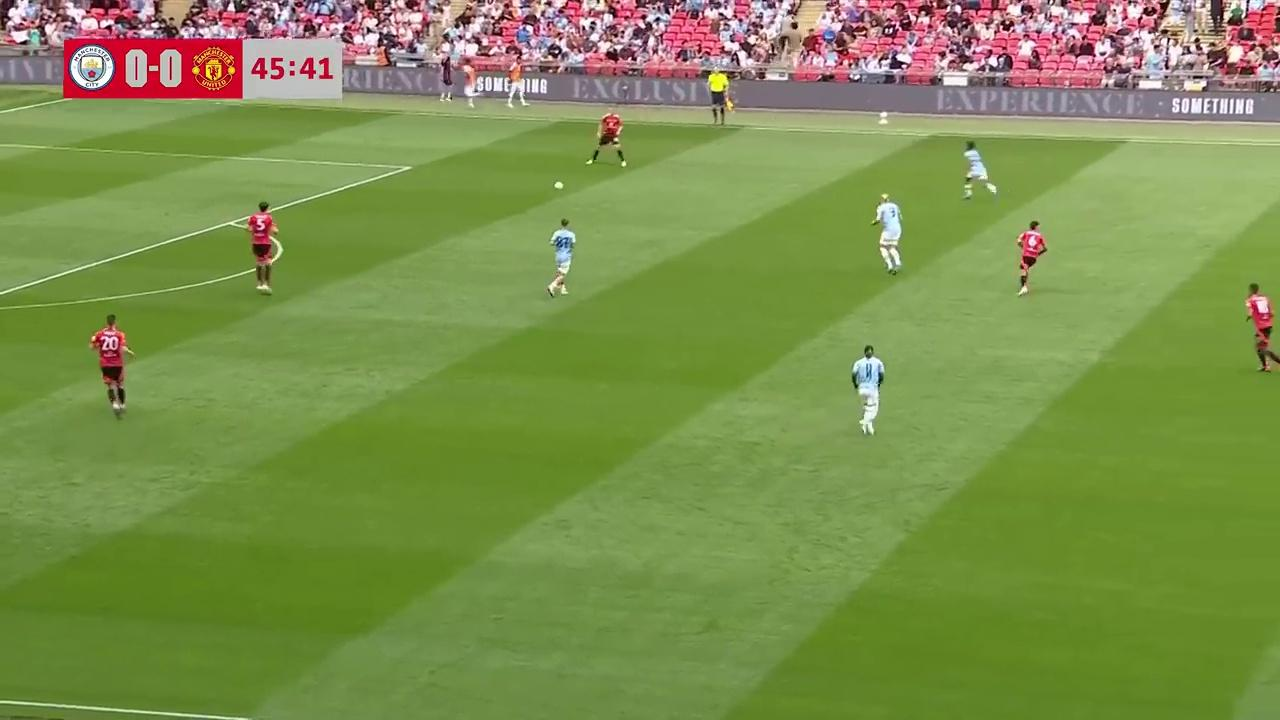ball: (552, 176, 566, 194)
player: (89, 313, 134, 419), (851, 344, 885, 435), (1245, 282, 1278, 372), (247, 203, 279, 293), (871, 193, 903, 272), (1015, 219, 1047, 296), (547, 217, 576, 297), (587, 108, 626, 167), (961, 141, 997, 199)
referee: (709, 68, 733, 126)
